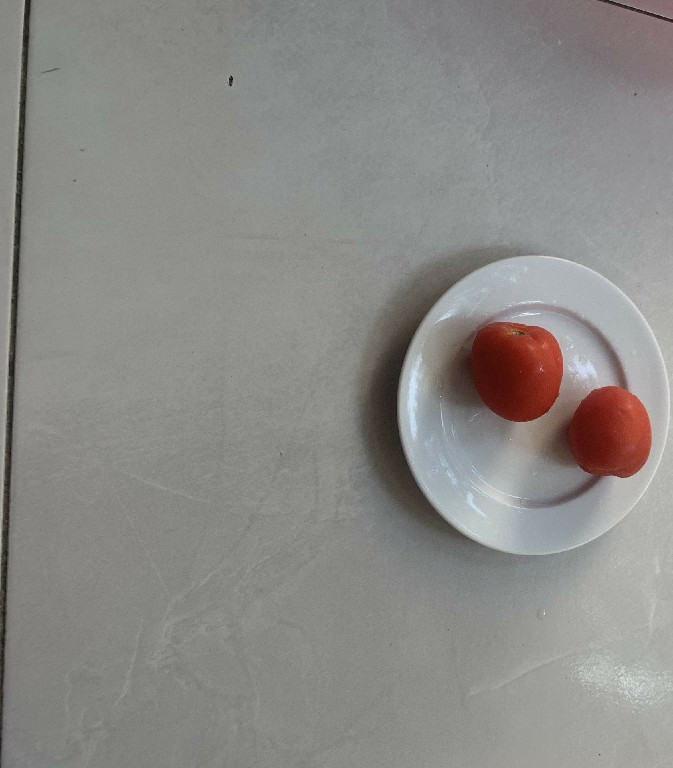OK: (473, 308, 566, 424), (571, 387, 647, 485)
